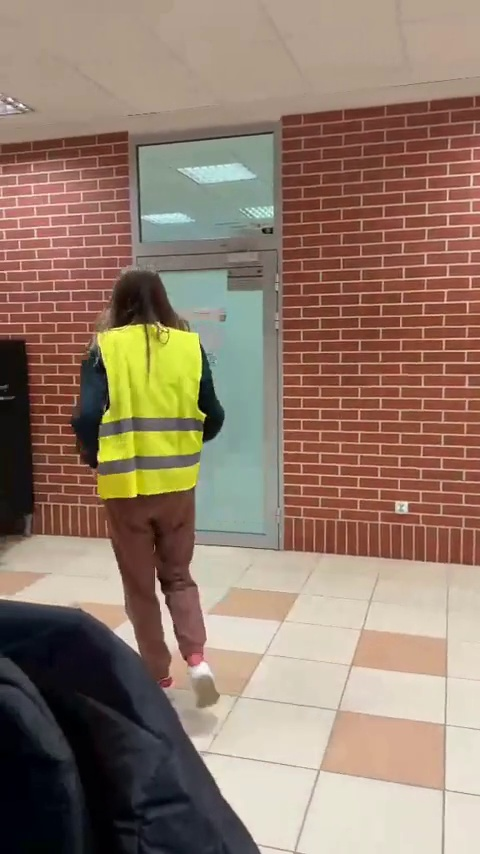vest: (66, 267, 240, 711)
